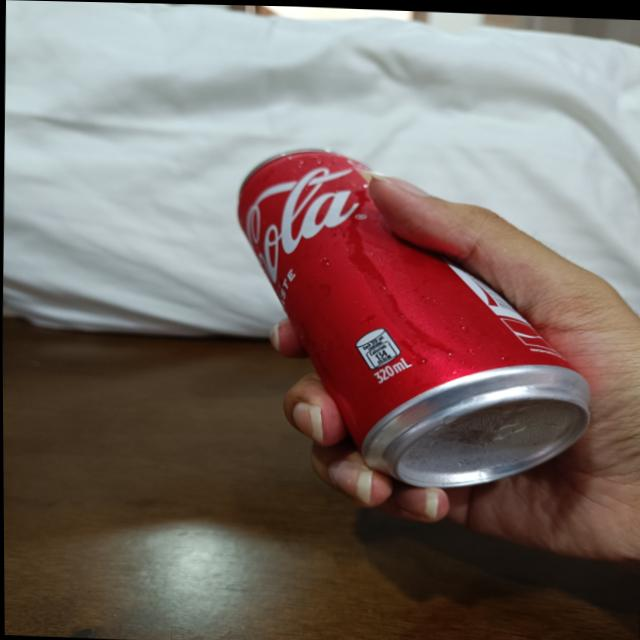coke: (227, 145, 595, 487)
